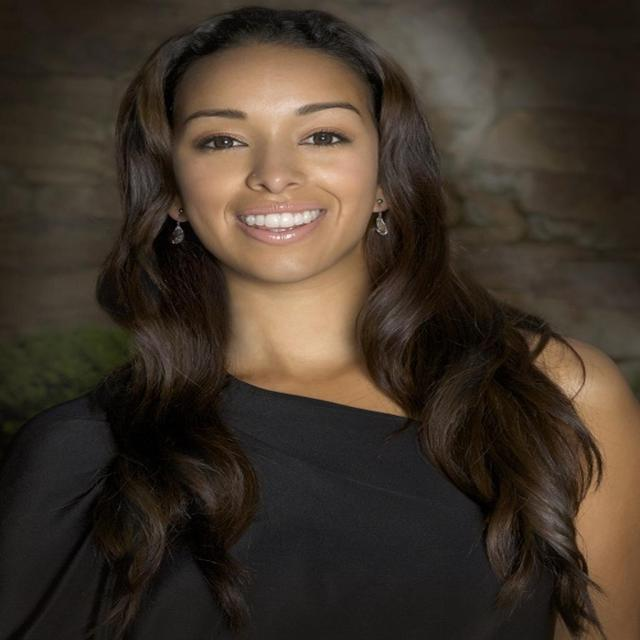Face: (166, 30, 401, 300)
